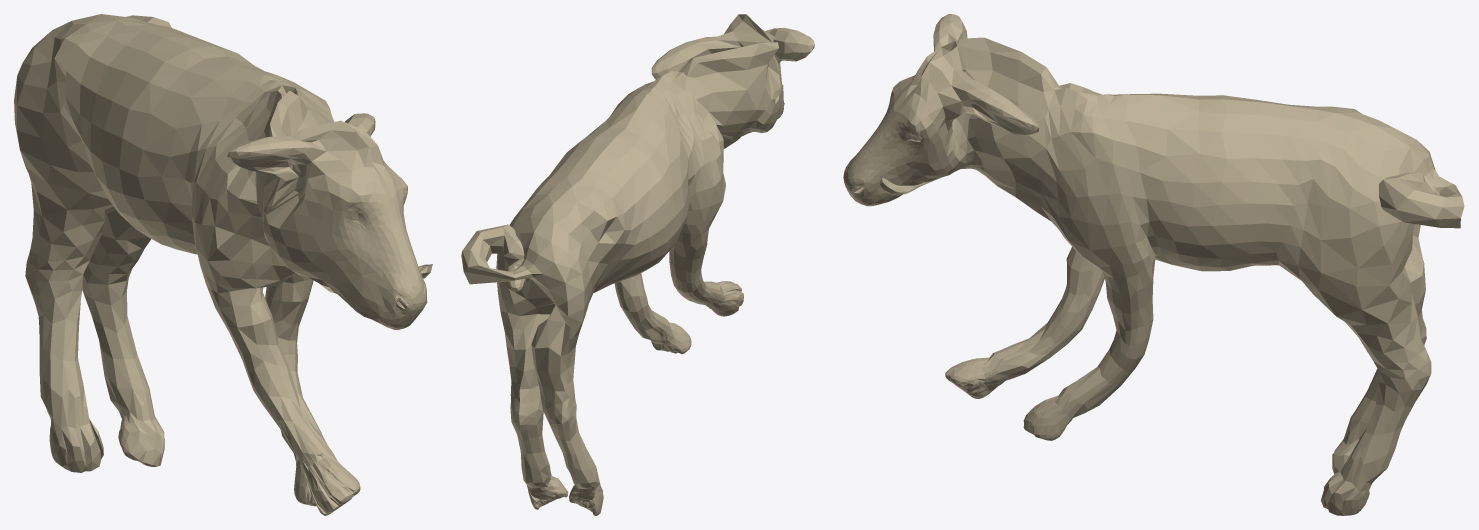
The picture shows the model from 3 angles, left to right: view 1: azimuth 30°, elevation 25°; view 2: azimuth 150°, elevation 25°; view 3: azimuth 270°, elevation 25°; orthographic projection. The views are drawn at different scales.
Visible parts, largest first — view 1: world; view 2: world; view 3: world.
Part boxes in pixels (x1=…): world: x1=14, y1=14, x2=432, y2=515; world: x1=461, y1=14, x2=814, y2=515; world: x1=843, y1=14, x2=1464, y2=515.
Bounding box in the file's own units: 0.5706 × 1.36 × 1.72.
